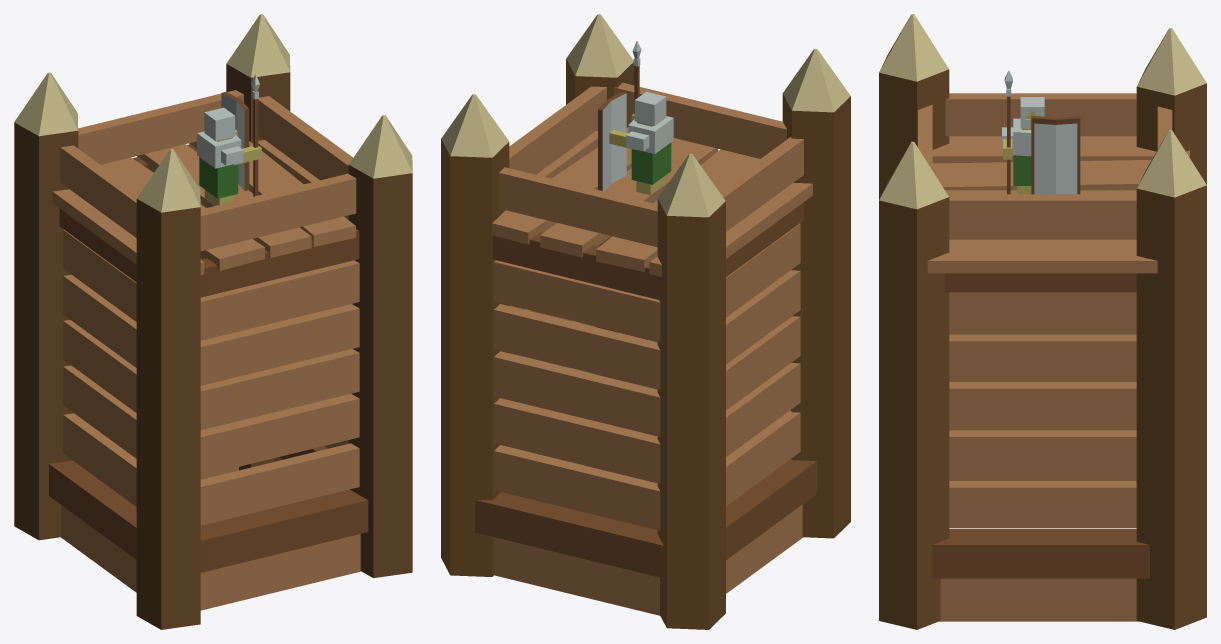
The model's file is WoodenTower2.fbx.
3 renders of one model, left to right at view 1: azimuth 30°, elevation 25°; view 2: azimuth 150°, elevation 25°; view 3: azimuth 270°, elevation 25°, orthographic. The views are drawn at different scales.
Parts seen in each view (by area): view 1: Cylinder.033, Cylinder.030, Cylinder.032, Cube.029, Cube.049, Cube.044, Cube.033, Cube.034, Cube.045, Cube.010, Cube.011, Cube.009 (+21 smaller); view 2: Cylinder.032, Cylinder.031, Cylinder.033, Cube.032, Cube.050, Cube.035, Cube.015, Cube.043, Cube.046, Cube.009, Cube.012, Cube.010 (+20 smaller); view 3: Cylinder.031, Cylinder.030, Cube.030, Cube.052, Cube.038, Cube.037, Cube.007, Cube.013, Cube.000, Cube.048, Cylinder.033, Cube.018 (+14 smaller).
Boxes of the visible parts, box(x1,y1,x2,y2) form: Cylinder.033: box(136, 149, 200, 629); Cylinder.030: box(348, 115, 412, 578); Cylinder.032: box(14, 72, 78, 540); Cube.029: box(200, 489, 368, 572); Cube.049: box(200, 443, 359, 525); Cube.044: box(200, 394, 359, 475); Cube.033: box(200, 304, 359, 385); Cube.034: box(200, 349, 359, 430); Cube.045: box(200, 260, 359, 340); Cube.010: box(200, 173, 356, 251); Cube.011: box(200, 534, 360, 610); Cube.009: box(78, 90, 243, 164); Cylinder.032: box(657, 153, 725, 629); Cylinder.031: box(441, 94, 509, 576); Cylinder.033: box(782, 48, 850, 538); Cube.032: box(475, 492, 663, 578); Cube.050: box(494, 445, 660, 530); Cube.035: box(494, 351, 660, 436); Cube.015: box(494, 304, 660, 389); Cube.043: box(494, 398, 660, 483); Cube.046: box(494, 260, 660, 341); Cube.009: box(499, 167, 657, 247); Cube.012: box(494, 537, 659, 615); Cube.010: box(613, 82, 786, 158); Cylinder.031: box(1136, 130, 1206, 629); Cylinder.030: box(879, 141, 949, 629); Cube.030: box(932, 529, 1149, 578); Cube.052: box(949, 481, 1136, 528); Cube.038: box(949, 430, 1136, 477); Cube.037: box(949, 382, 1136, 429); Cube.007: box(949, 334, 1136, 381); Cube.013: box(939, 578, 1138, 621); Cube.000: box(947, 194, 1136, 237); Cube.048: box(949, 292, 1136, 333); Cylinder.033: box(879, 14, 949, 199); Cube.018: box(927, 239, 1157, 273).
Bounding box in the file's own units: 607 × 1028 × 608.
